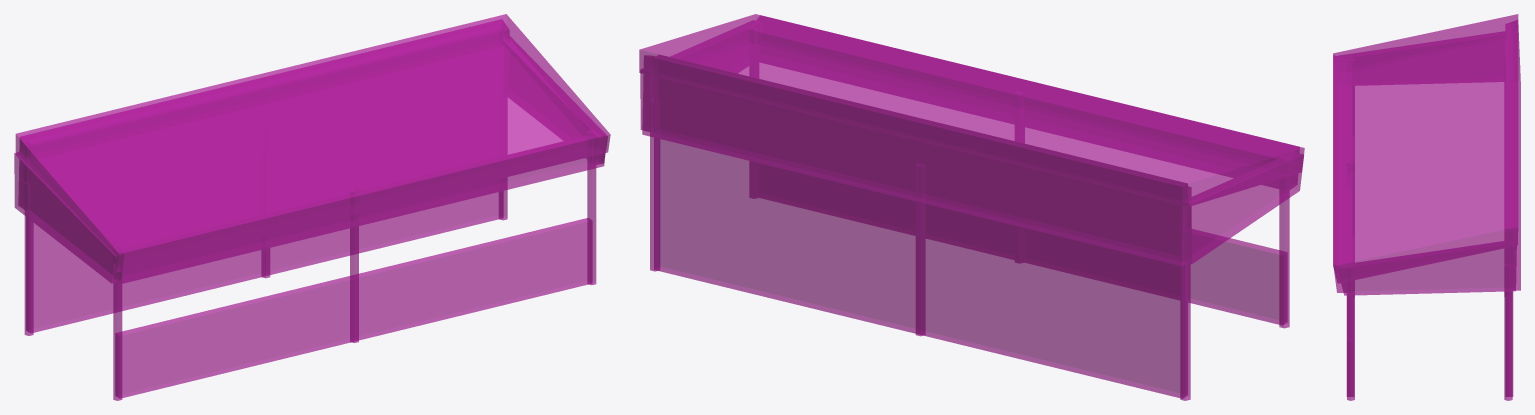
File: SM_Prop_Stall_03_Collision.fbx
3 views of the same model, side by side, from view 1: azimuth 30°, elevation 25°; view 2: azimuth 150°, elevation 25°; view 3: azimuth 270°, elevation 25° (orthographic). The views are drawn at different scales.
Visible parts, largest first — view 1: SM_Prop_Stall_03_Collision; view 2: SM_Prop_Stall_03_Collision; view 3: SM_Prop_Stall_03_Collision.
Boxes of the visible parts, x1,y1,x2,y2 form: SM_Prop_Stall_03_Collision: (14,14,610,400); SM_Prop_Stall_03_Collision: (639,14,1304,400); SM_Prop_Stall_03_Collision: (1333,14,1520,400).
Bounding box in the file's own units: 772 × 296 × 286.
